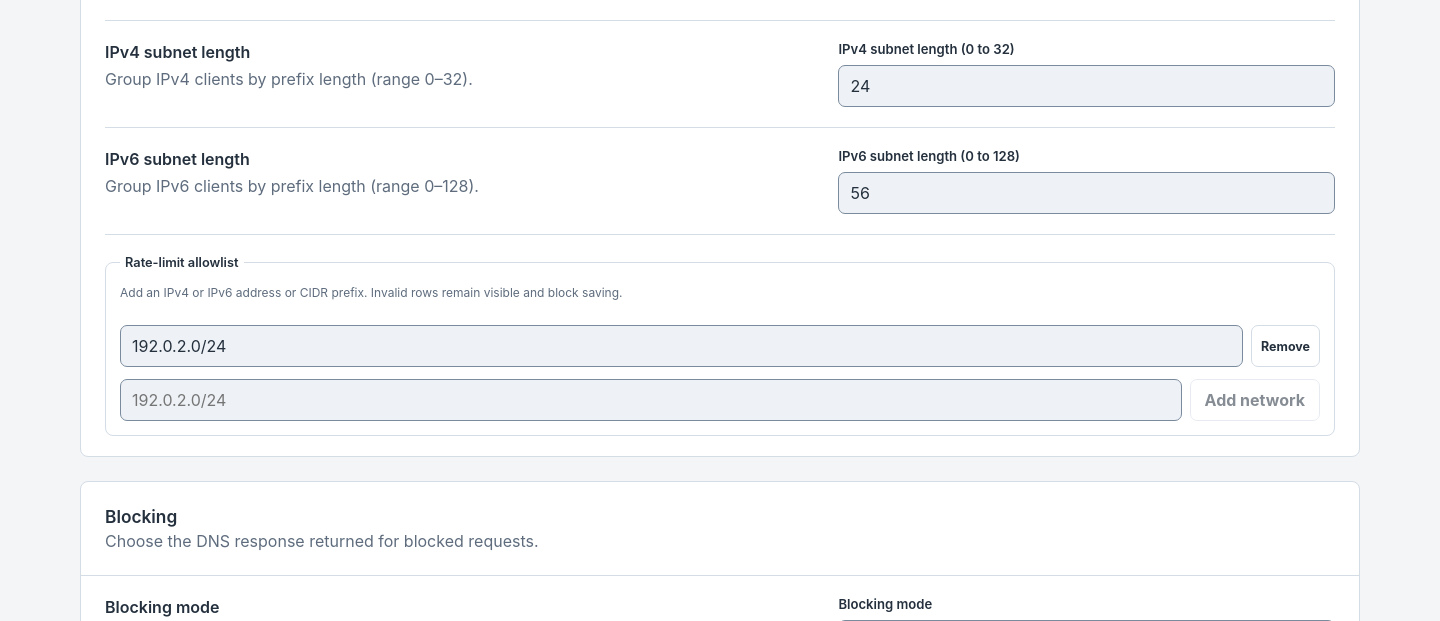
Test: DNS Settings › uses structured network validation and keyboard entry without reordering
The width and height of the screenshot is (1440, 621).
(page scrolled)
Type "2001:db8::/48" into the field named "New Rate-limit allowlist entry". click: point(651, 400)
box: x1=120 y1=379 x2=1182 y2=421
Then press Enter
(page scrolled)
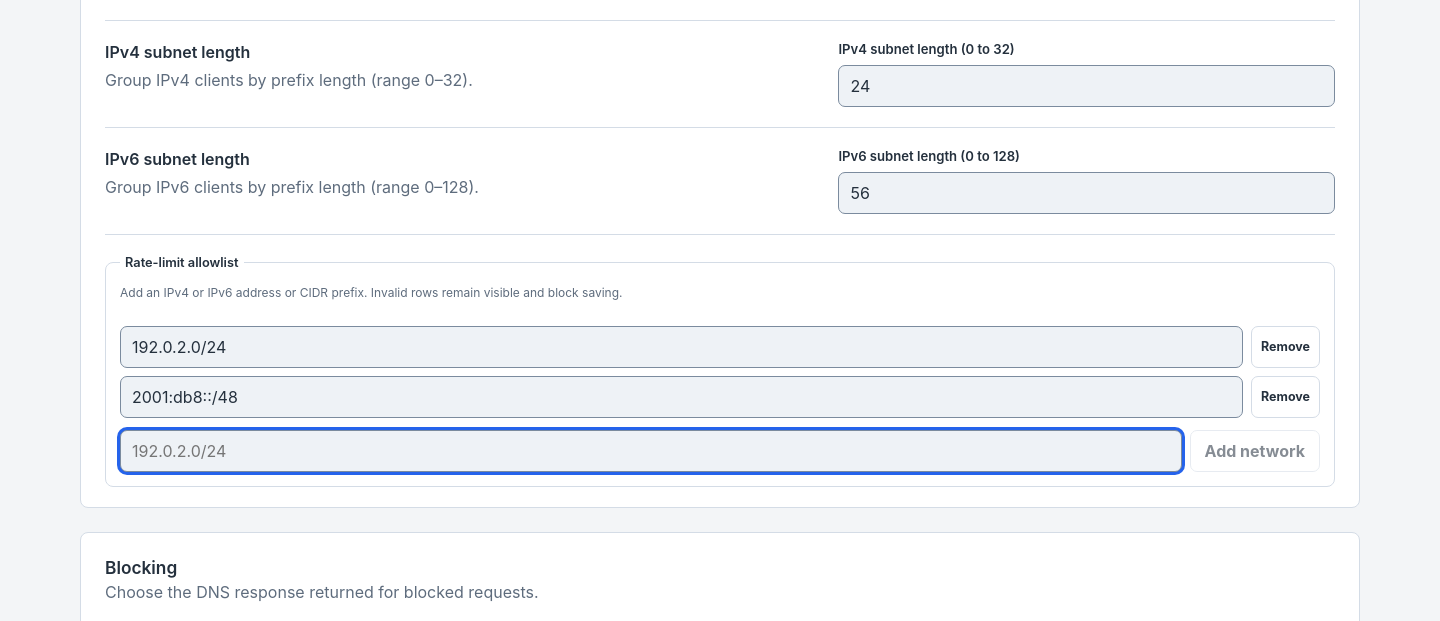
Type "192.0.2.0/99" into the field named "Rate-limit allowlist entry". click: point(651, 451)
box: x1=120 y1=430 x2=1182 y2=472
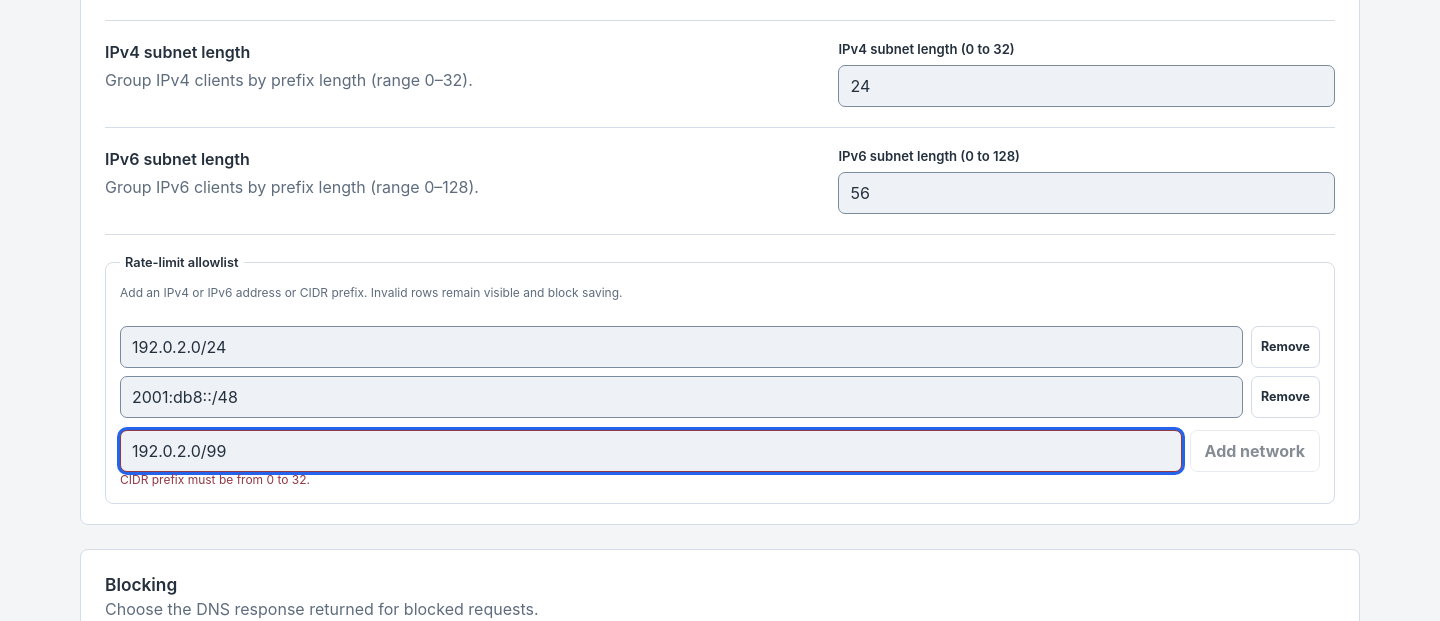
Expected: the button "Add network" is disabled, x1=1190 y1=430 x2=1320 y2=472
Expected: the text "CIDR prefix must be from 0 to 32." is shown, x1=120 y1=472 x2=310 y2=487
